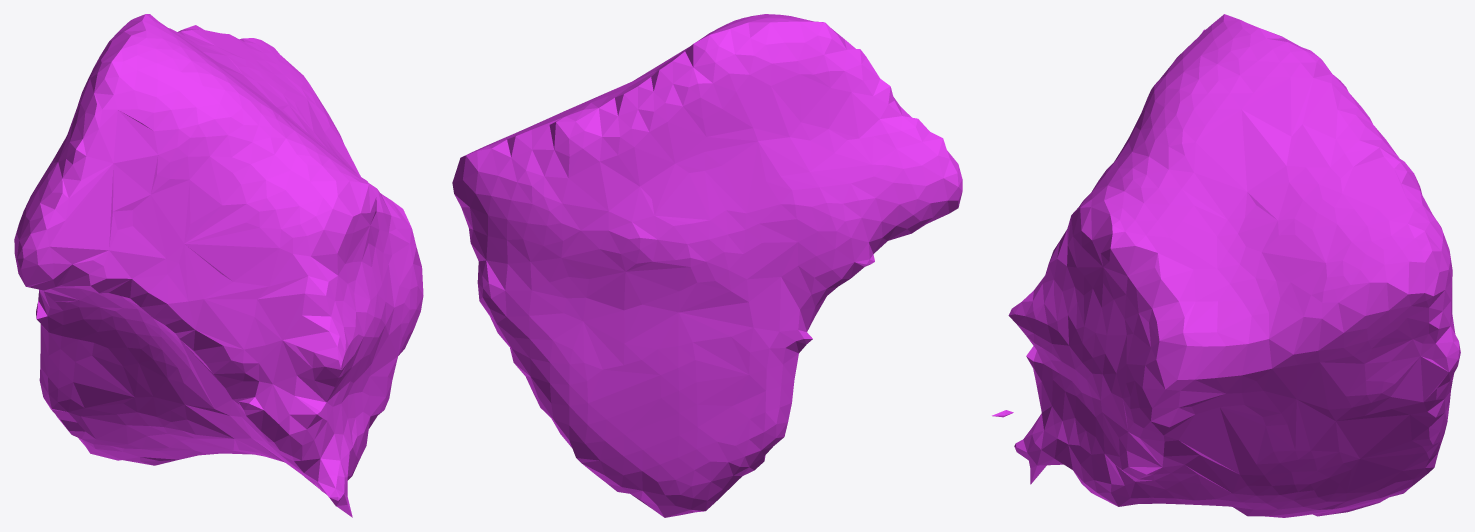
File: Model_169_RH__Amygdalopiriform_transition_area_(APir).obj
The picture shows the model from 3 angles, left to right: view 1: azimuth 30°, elevation 25°; view 2: azimuth 150°, elevation 25°; view 3: azimuth 270°, elevation 25°; orthographic projection. The views are drawn at different scales.
Bounding box in the file's own units: 1.85 × 2.1 × 1.96.
